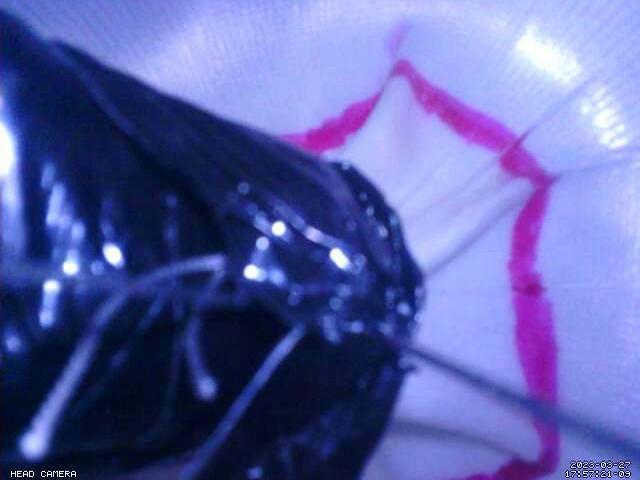red-circle: (279, 58, 562, 480)
